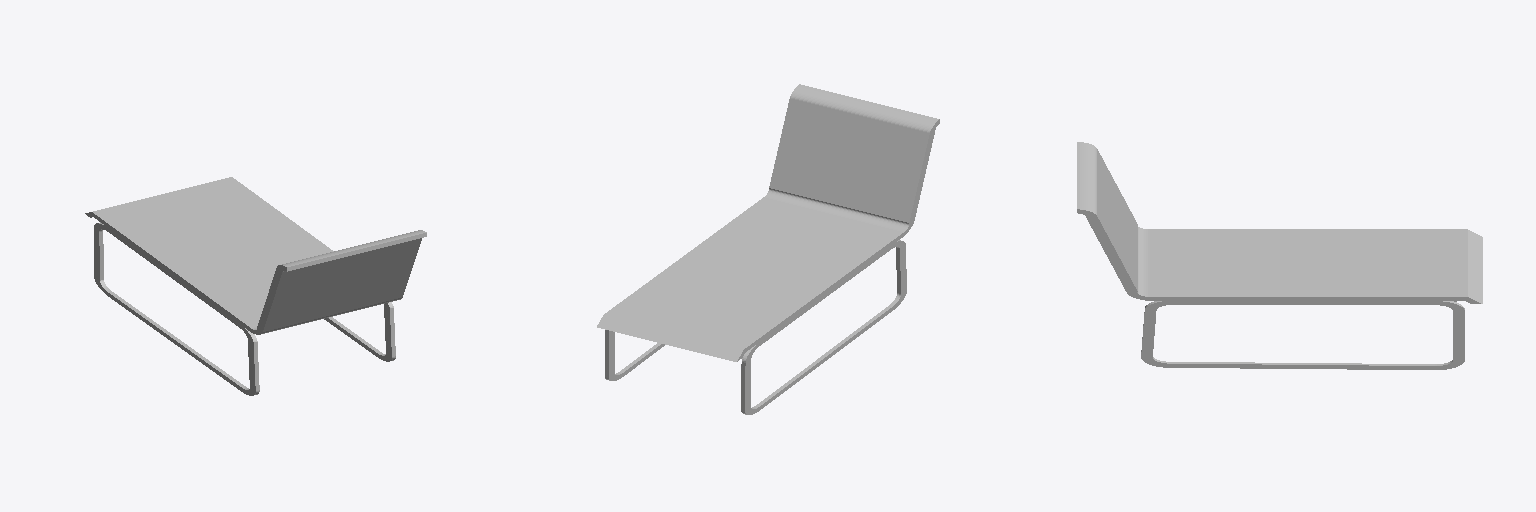
File: chair.obj
The picture shows the model from 3 angles: view 1: azimuth 30°, elevation 25°; view 2: azimuth 150°, elevation 25°; view 3: azimuth 270°, elevation 25°; orthographic projection.
Visible parts, largest first — view 1: Group_001, Group_002, Group_003; view 2: Group_001, Group_002, Group_003; view 3: Group_001, Group_003.
Boxes of the visible parts, <box> form: Group_001: <box>85,177,426,334</box>; Group_002: <box>94,222,259,395</box>; Group_003: <box>324,302,395,361</box>; Group_001: <box>597,84,939,361</box>; Group_002: <box>741,240,906,414</box>; Group_003: <box>605,330,664,380</box>; Group_001: <box>1077,142,1482,303</box>; Group_003: <box>1141,301,1464,369</box>.
Size of the model in its own units: 27.73 by 30.32 by 69.08.